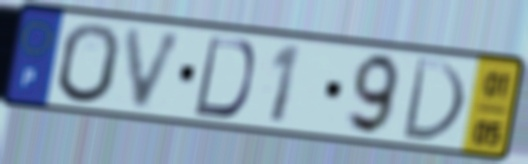1: (263, 41, 305, 126)
9: (343, 52, 402, 138)
D: (398, 54, 469, 146), (190, 33, 258, 121)
O: (54, 20, 123, 107)
V: (122, 24, 190, 114)
